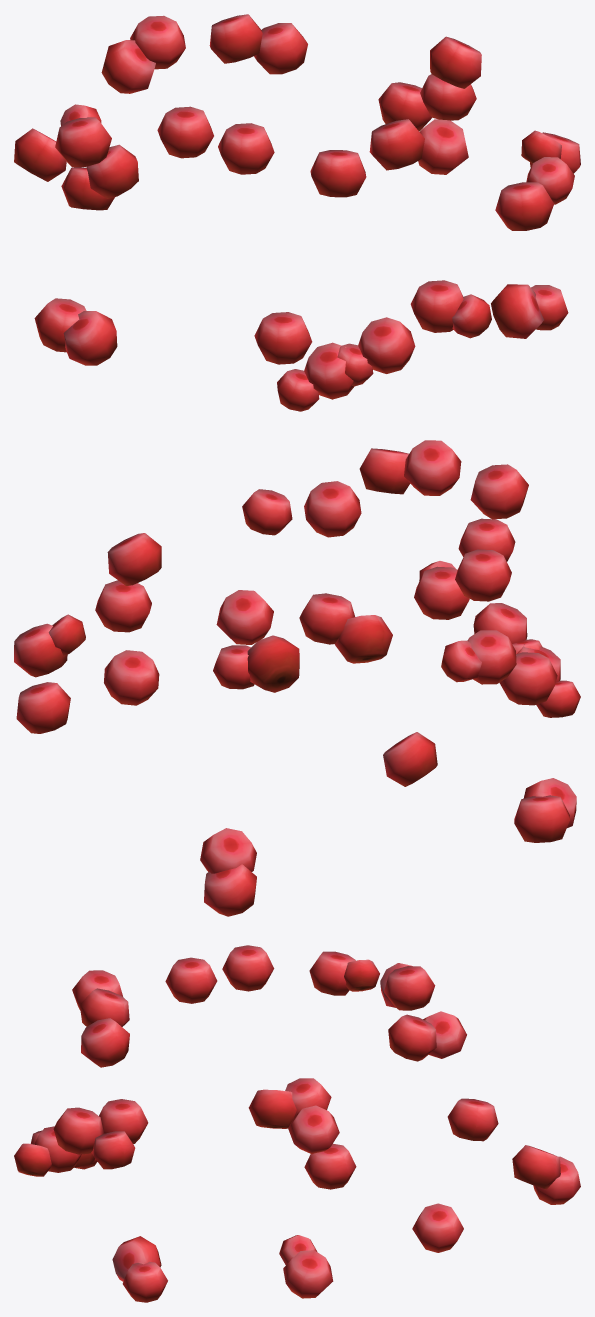
Rendered from Redapple.FBX.
The picture shows the model from 3 angles, top to bottom: view 1: azimuth 30°, elevation 25°; view 2: azimuth 150°, elevation 25°; view 3: azimuth 270°, elevation 25°; orthographic projection. The views are drawn at different scales.
Visible parts, largest first — view 1: Redapple; view 2: Redapple; view 3: Redapple.
Part boxes in pixels (bbox=[...]): Redapple: bbox=[14, 14, 580, 411]; Redapple: bbox=[14, 440, 580, 916]; Redapple: bbox=[14, 945, 580, 1302].
Size of the model in its own units: 23.72 by 10.98 by 24.2.
1 material, 1 textured.
